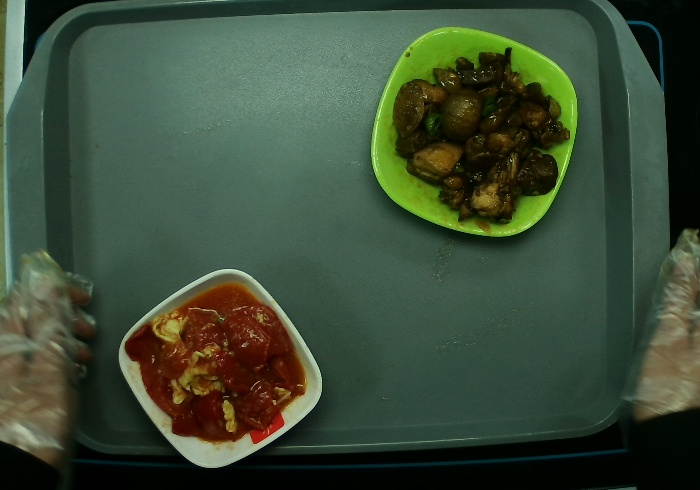SHKJ-Bai_Se_Xiao_Fang_Die: (116, 267, 323, 472)
SHKJ-Lv_Se_Cai_Die: (365, 23, 580, 244)
